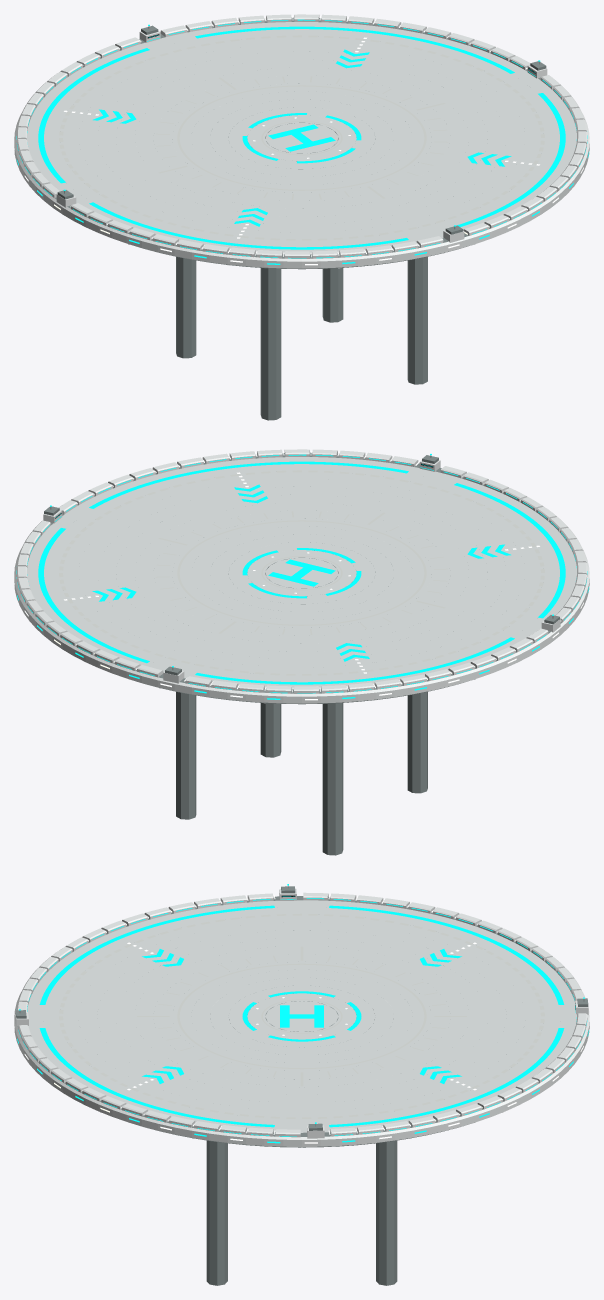
File: plataforma-base.glb
3 views of the same model, one above another, from view 1: azimuth 30°, elevation 25°; view 2: azimuth 150°, elevation 25°; view 3: azimuth 270°, elevation 25° (orthographic).
Visible parts, largest first — view 1: plataforma-base_deque, plataforma-base_sinalizacao, plataforma-base_aro, plataforma-base_pilares, plataforma-base_casco, plataforma-base_luzes, plataforma-base_torres; view 2: plataforma-base_deque, plataforma-base_sinalizacao, plataforma-base_aro, plataforma-base_pilares, plataforma-base_casco, plataforma-base_luzes, plataforma-base_torres; view 3: plataforma-base_deque, plataforma-base_aro, plataforma-base_sinalizacao, plataforma-base_casco, plataforma-base_pilares, plataforma-base_luzes, plataforma-base_torres.
Boxes of the visible parts, left/top/right/bottom form: plataforma-base_deque: left=27, top=22, right=576, bottom=254; plataforma-base_sinalizacao: left=38, top=26, right=565, bottom=249; plataforma-base_aro: left=16, top=14, right=587, bottom=258; plataforma-base_pilares: left=176, top=118, right=427, bottom=420; plataforma-base_casco: left=14, top=17, right=589, bottom=269; plataforma-base_luzes: left=14, top=15, right=589, bottom=265; plataforma-base_torres: left=56, top=25, right=547, bottom=242; plataforma-base_deque: left=27, top=457, right=576, bottom=689; plataforma-base_sinalizacao: left=38, top=461, right=565, bottom=684; plataforma-base_aro: left=16, top=449, right=587, bottom=693; plataforma-base_pilares: left=176, top=553, right=427, bottom=855; plataforma-base_casco: left=14, top=452, right=589, bottom=704; plataforma-base_luzes: left=14, top=450, right=589, bottom=700; plataforma-base_torres: left=43, top=455, right=560, bottom=683; plataforma-base_deque: left=27, top=900, right=576, bottom=1132; plataforma-base_aro: left=17, top=892, right=587, bottom=1137; plataforma-base_sinalizacao: left=39, top=905, right=564, bottom=1127; plataforma-base_casco: left=14, top=896, right=589, bottom=1147; plataforma-base_pilares: left=206, top=1000, right=397, bottom=1285; plataforma-base_luzes: left=14, top=884, right=589, bottom=1143; plataforma-base_torres: left=15, top=886, right=588, bottom=1138.
Bounding box in the file's own units: 141 × 65.51 × 141.
